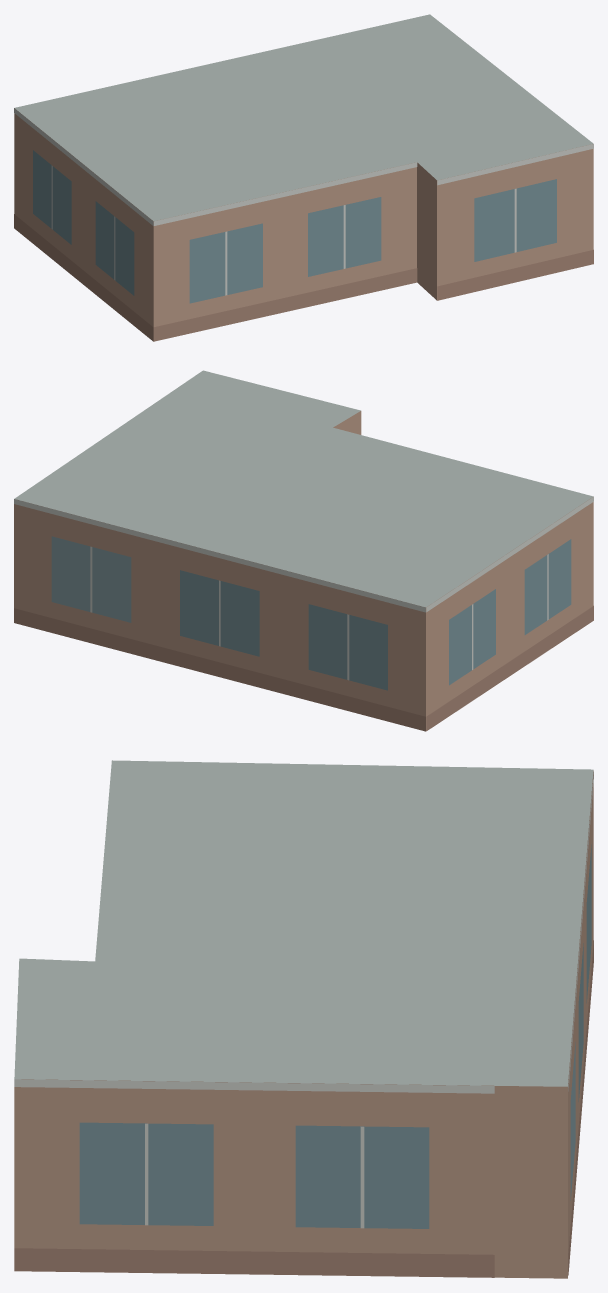
File: survey-upis-32903289.glb
The picture shows the model from 3 angles, top to bottom: view 1: azimuth 30°, elevation 25°; view 2: azimuth 150°, elevation 25°; view 3: azimuth 270°, elevation 25°; orthographic projection. The views are drawn at different scales.
Parts seen in each view (by area): view 1: survey-upis-32903289.tmp; view 2: survey-upis-32903289.tmp; view 3: survey-upis-32903289.tmp.
Part boxes in pixels (bbox=[...]): survey-upis-32903289.tmp: bbox=[14, 14, 593, 341]; survey-upis-32903289.tmp: bbox=[14, 370, 593, 731]; survey-upis-32903289.tmp: bbox=[14, 760, 593, 1278].
Bounding box in the file's own units: 11.13 × 3.05 × 8.36.
